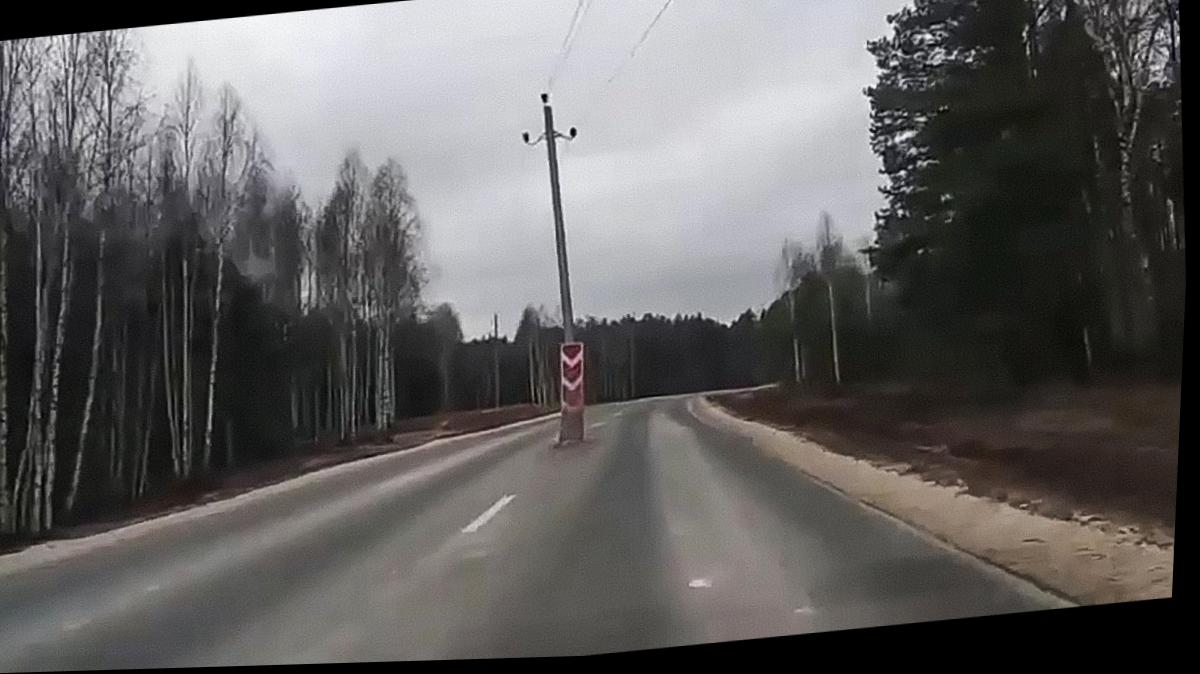Animal: (490, 74, 636, 463)
